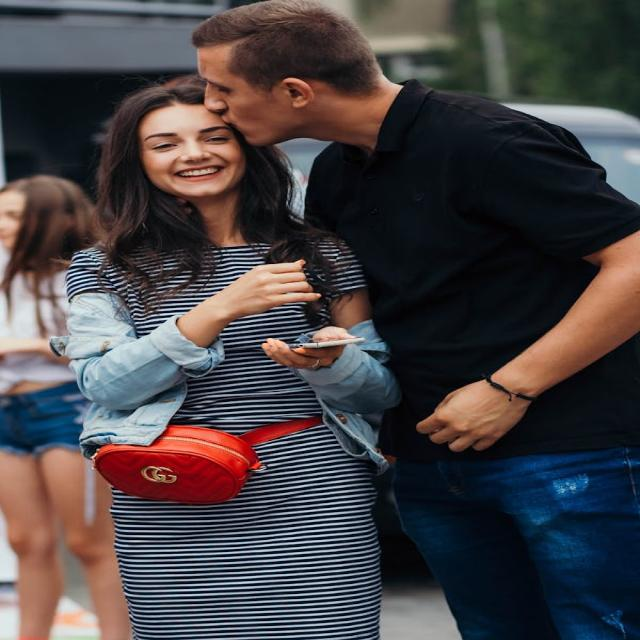Real human 2: (81, 1, 628, 640)
